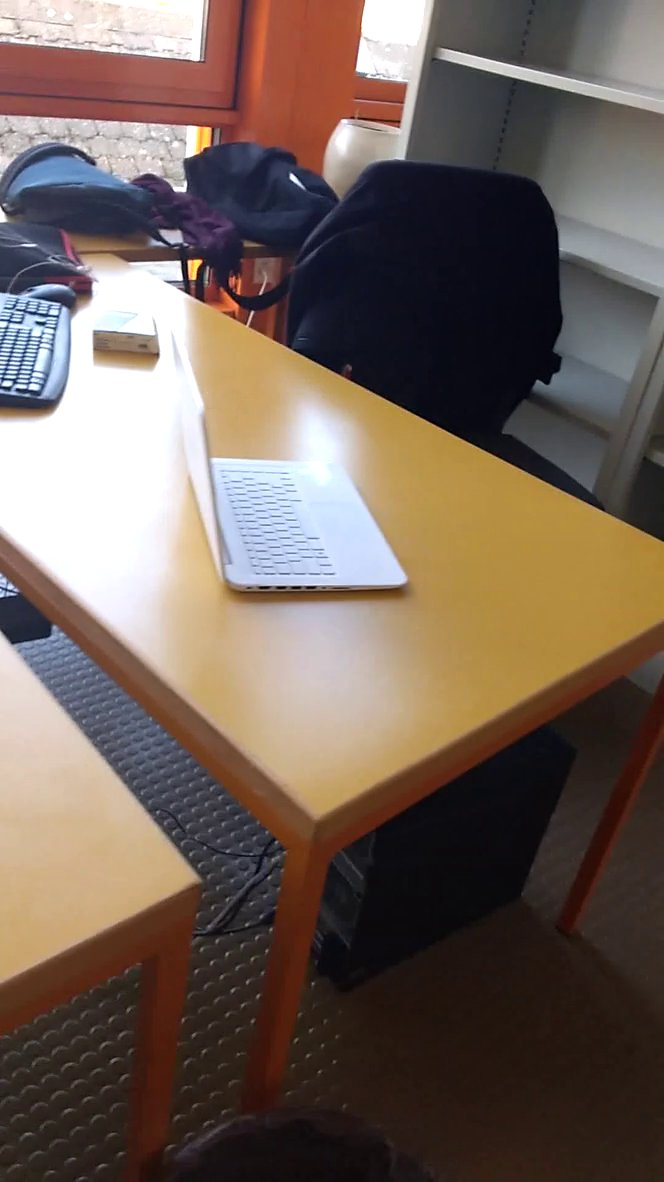bag: (166, 136, 347, 259), (2, 128, 157, 246)
chair: (280, 151, 580, 447)
laptop: (159, 326, 425, 611)
